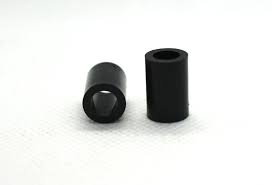No thread: (89, 90, 120, 118), (149, 50, 185, 64)
